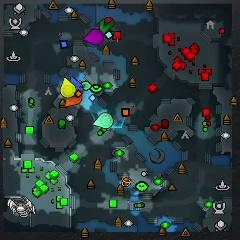p1: (70, 76, 85, 96)
p2: (93, 112, 114, 128)
p3: (83, 28, 104, 46)
p4: (60, 77, 77, 98)
p5: (64, 90, 83, 107)
x4: (100, 18, 115, 34)
